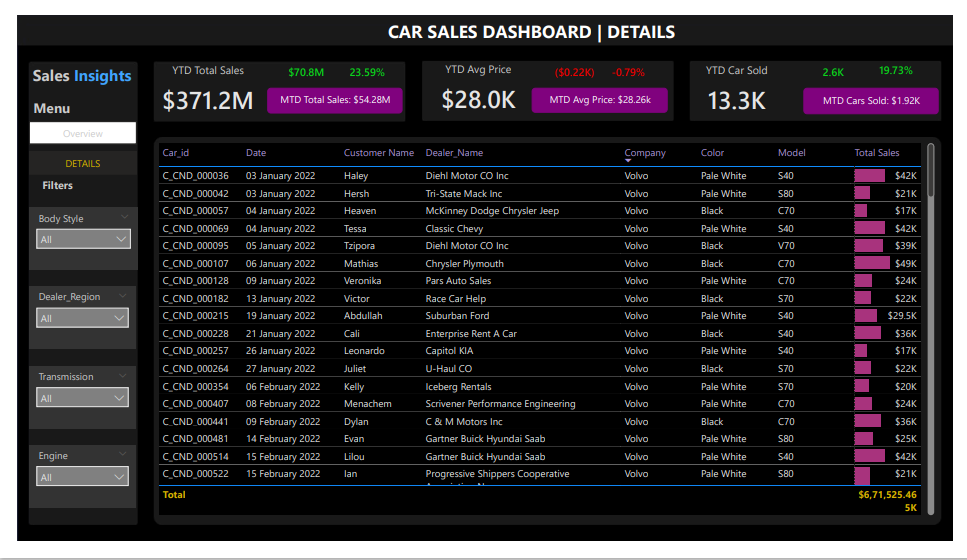

Layout of this report page (visuals, bound fields, positions):
{"tool":"powerbi","page":{"name":"DETAILS","canvas":[1280,720],"ordinal":1},"visuals":[{"type":"card","title":"YTD Total Sales ","fields":{"Values":["car_data.YTD Total Sales"]},"box":[187.3,64.1,147.9,82.2],"z":0},{"type":"card","fields":{"Values":["car_data.Sales Difference"]},"box":[336.8,64.1,116.7,29.6],"z":1000},{"type":"card","fields":{"Values":["car_data.YOY Sales Growth"]},"box":[421.1,63.7,115.8,30.2],"z":2000},{"type":"card","fields":{"Values":["car_data.MTD KPI"]},"box":[341.8,98.6,185.7,35],"z":3000},{"type":"card","title":"YTD Avg Price","fields":{"Values":["car_data.YTD Avg Price"]},"box":[557,62.4,147.9,82.2],"z":4000},{"type":"card","fields":{"Values":["car_data.Avg Price Diff"]},"box":[704.4,63.8,116.2,29.8],"z":5000},{"type":"card","fields":{"Values":["car_data.YOY Avg Price Growth"]},"box":[778.1,63.8,116.2,29.8],"z":6000},{"type":"card","fields":{"Values":["car_data.MTD Avg Price KPI"]},"box":[704.4,99.2,185.7,34],"z":7000},{"type":"card","title":"YTD Car Sold","fields":{"Values":["car_data.YTD Car Sold"]},"box":[911.3,63.8,147.4,82.2],"z":8000},{"type":"card","fields":{"Values":["car_data.Cars Sold Diff"]},"box":[1058.7,63.8,116.2,29.8],"z":9000},{"type":"card","fields":{"Values":["car_data.YoY Cars Solds Growth"]},"box":[1145.2,62.4,116.2,29.8],"z":10000},{"type":"card","fields":{"Values":["car_data.MTD Cars Sold KPI"]},"box":[1075.7,99.2,185.7,35.4],"z":11000},{"type":"textbox","box":[477.6,0,452.1,46.8],"z":12000},{"type":"slicer","fields":{"Values":["car_data.Body Style"]},"box":[16.3,262.9,148.6,84.9],"z":13000},{"type":"slicer","fields":{"Values":["car_data.Dealer_Region"]},"box":[16.3,370.6,145.3,84.9],"z":14000},{"type":"slicer","fields":{"Values":["car_data.Transmission"]},"box":[16.3,480,145.3,84.9],"z":15000},{"type":"slicer","fields":{"Values":["car_data.Engine"]},"box":[16.3,587.8,145.3,84.9],"z":16000},{"type":"textbox","box":[29.4,217.1,60.4,34.3],"z":17000},{"type":"tableEx","fields":{"Values":["car_data.Car_id","car_data.Date","car_data.Customer Name","car_data.Dealer_Name","car_data.Company","car_data.Color","car_data.Model","car_data.Price ($)"]},"box":[187.8,169.8,1072.7,519.2],"z":18000},{"type":"textbox","box":[17,107.7,75.1,35.4],"z":19000},{"type":"textbox","box":[16.3,62,179.6,45.7],"z":20000},{"type":"pageNavigator","box":[16.3,145.3,146.9,71.8],"z":21000}]}

Visuals, with their boxes on the page's 1280x720 design canvas (x1, y1, x2, y2). These are canvas units, not pixel positions in the 967x560 screenshot, which may show the page scaled, cropped or inside an application window:
"YTD Total Sales " card: crop(187, 64, 335, 146)
card - car_data.Sales Difference: crop(337, 64, 454, 94)
card - car_data.YOY Sales Growth: crop(421, 64, 537, 94)
card - car_data.MTD KPI: crop(342, 99, 528, 134)
"YTD Avg Price" card: crop(557, 62, 705, 145)
card - car_data.Avg Price Diff: crop(704, 64, 821, 94)
card - car_data.YOY Avg Price Growth: crop(778, 64, 894, 94)
card - car_data.MTD Avg Price KPI: crop(704, 99, 890, 133)
"YTD Car Sold" card: crop(911, 64, 1059, 146)
card - car_data.Cars Sold Diff: crop(1059, 64, 1175, 94)
card - car_data.YoY Cars Solds Growth: crop(1145, 62, 1261, 92)
card - car_data.MTD Cars Sold KPI: crop(1076, 99, 1261, 135)
textbox: crop(478, 0, 930, 47)
slicer - car_data.Body Style: crop(16, 263, 165, 348)
slicer - car_data.Dealer_Region: crop(16, 371, 162, 456)
slicer - car_data.Transmission: crop(16, 480, 162, 565)
slicer - car_data.Engine: crop(16, 588, 162, 673)
textbox: crop(29, 217, 90, 251)
tableEx - car_data.Car_id x car_data.Date: crop(188, 170, 1260, 689)
textbox: crop(17, 108, 92, 143)
textbox: crop(16, 62, 196, 108)
pageNavigator: crop(16, 145, 163, 217)
